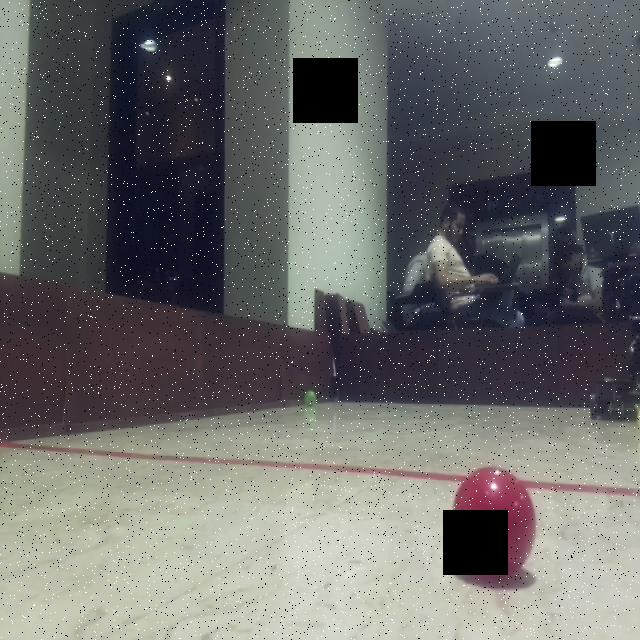ball: (448, 463, 538, 582), (301, 386, 320, 408)
